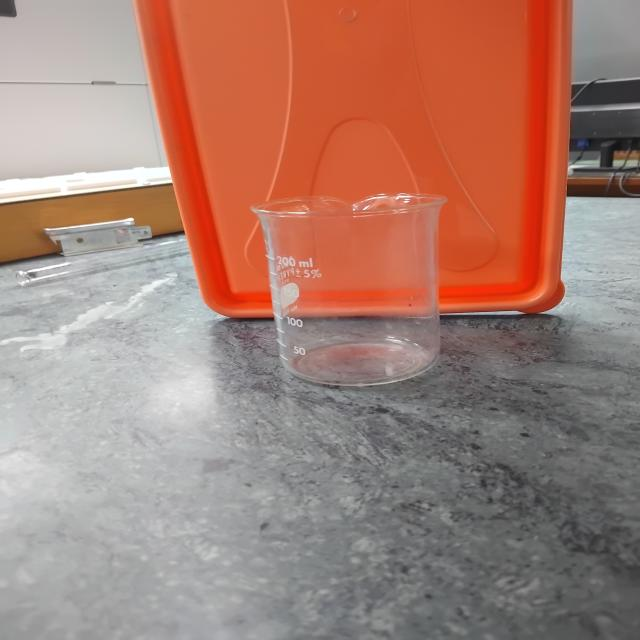Beaker: (217, 158, 489, 406)
